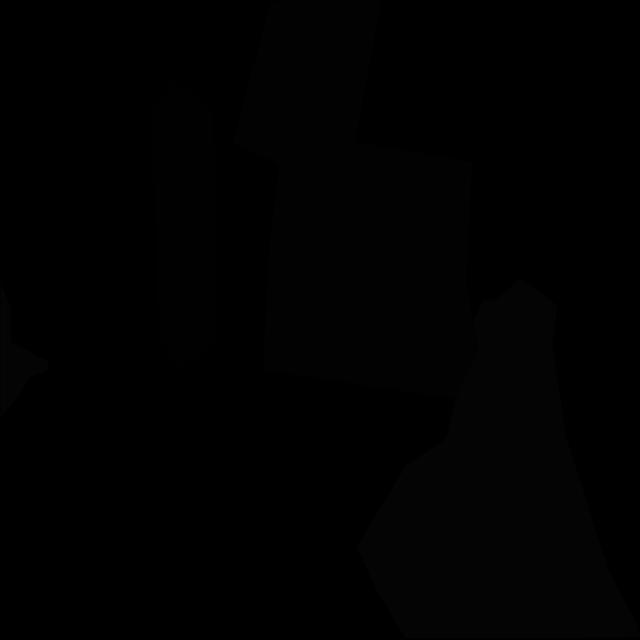cardboard: (263, 129, 479, 399)
rigid_plastic: (152, 80, 217, 369)
soft_plastic: (357, 278, 640, 638), (0, 282, 49, 417)
